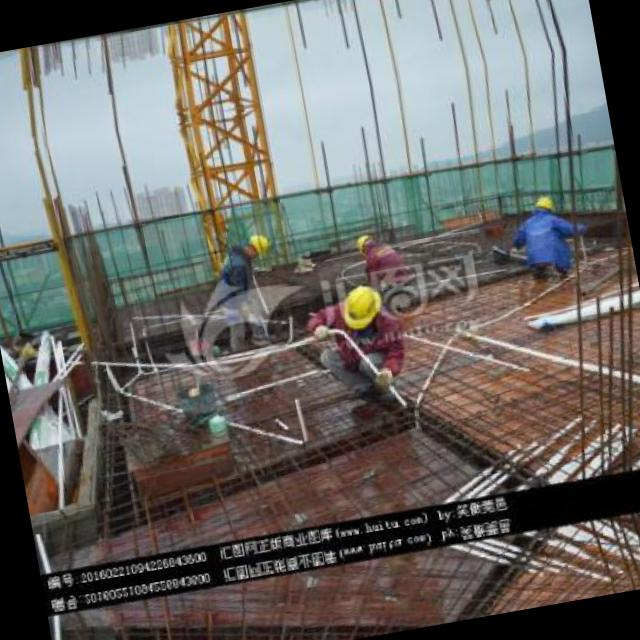helmet: (338, 276, 386, 331), (238, 230, 272, 262), (530, 192, 556, 215), (351, 231, 377, 253)
